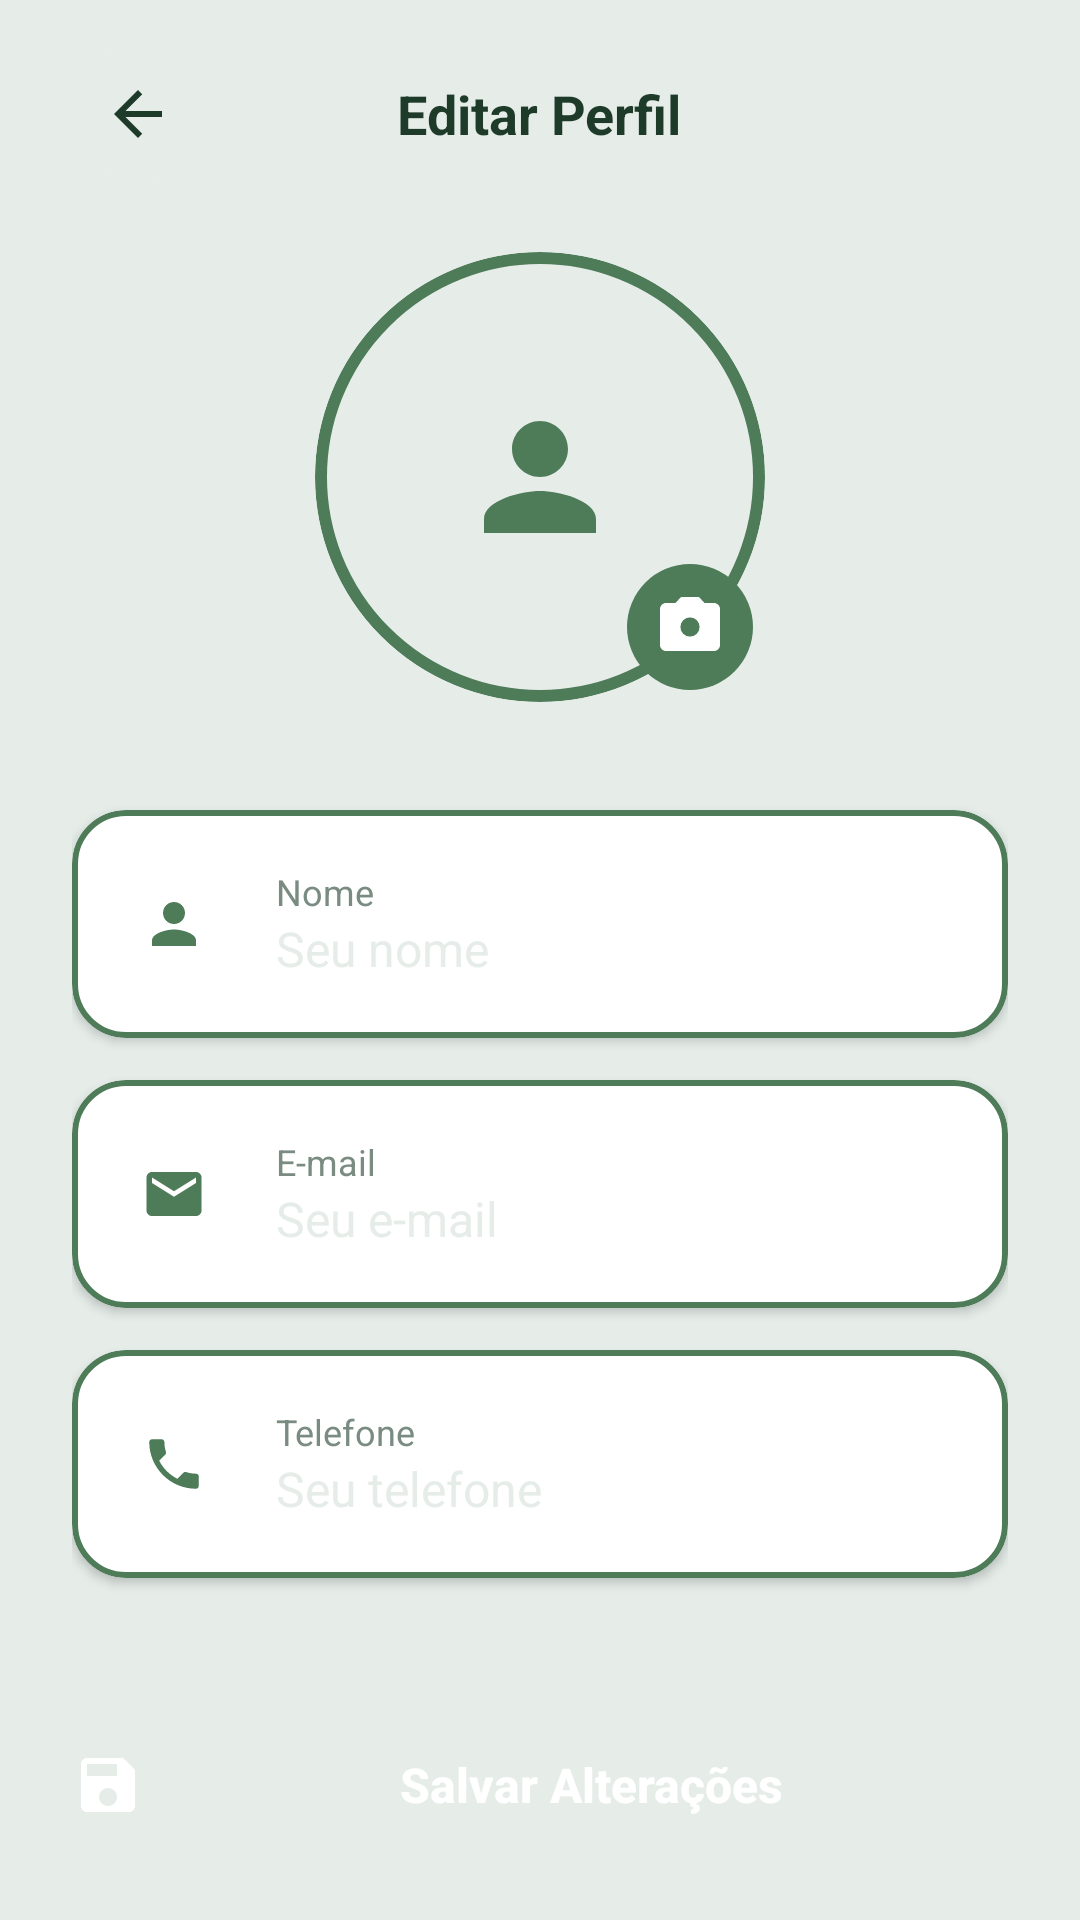

Locate icon controls on the screen. Image size 1080×1920, boxes as {"left": x1, "top": y1, "right": x2, "bottom": y2}.
person: {"left": 484, "top": 421, "right": 596, "bottom": 533}, {"left": 152, "top": 902, "right": 196, "bottom": 946}
phone: {"left": 149, "top": 1439, "right": 199, "bottom": 1489}
Trocar foto: {"left": 627, "top": 564, "right": 753, "bottom": 690}
Voltar: {"left": 114, "top": 90, "right": 162, "bottom": 138}
